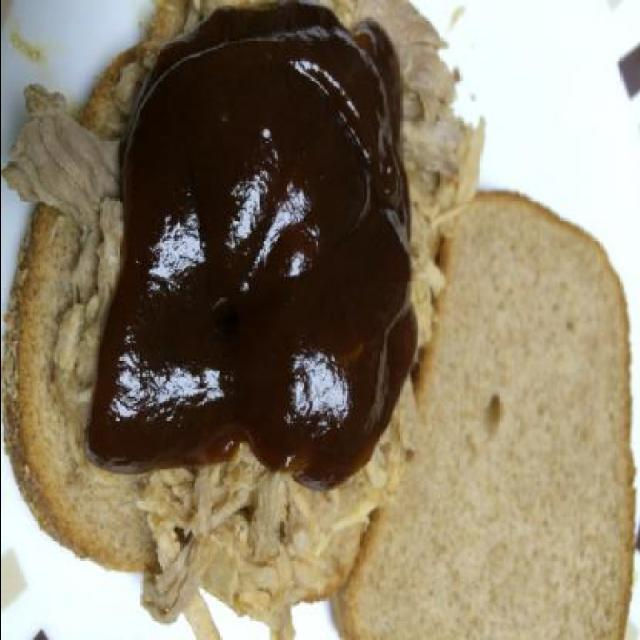Bread: (0, 0, 369, 638), (377, 182, 632, 624)
